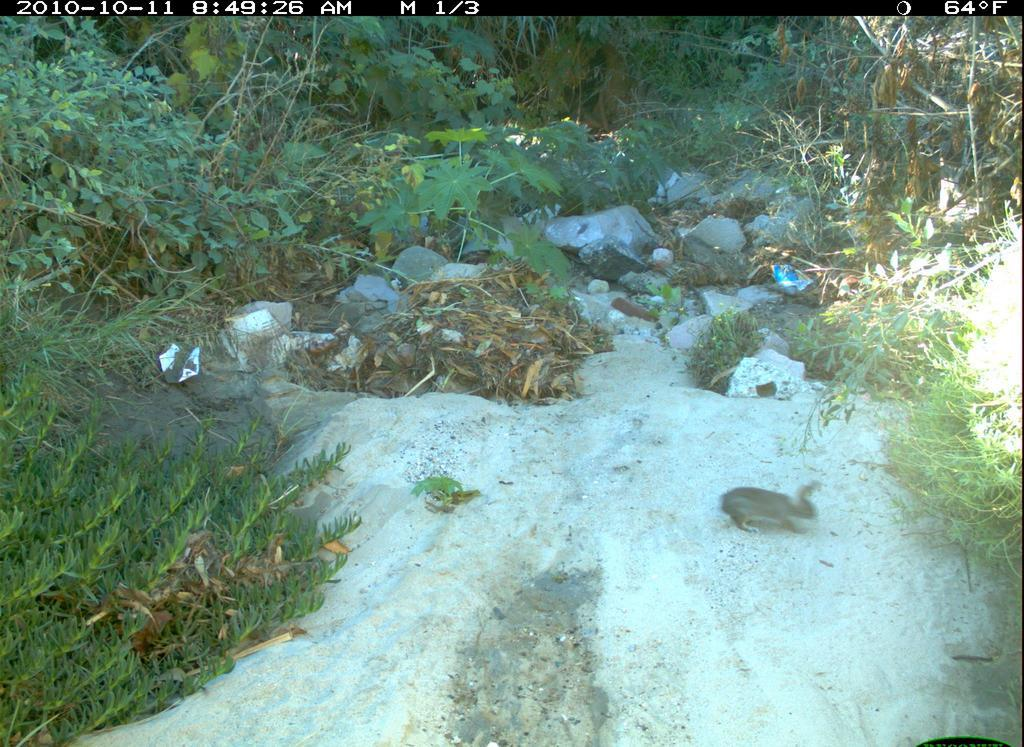rabbit: (719, 466, 845, 551)
